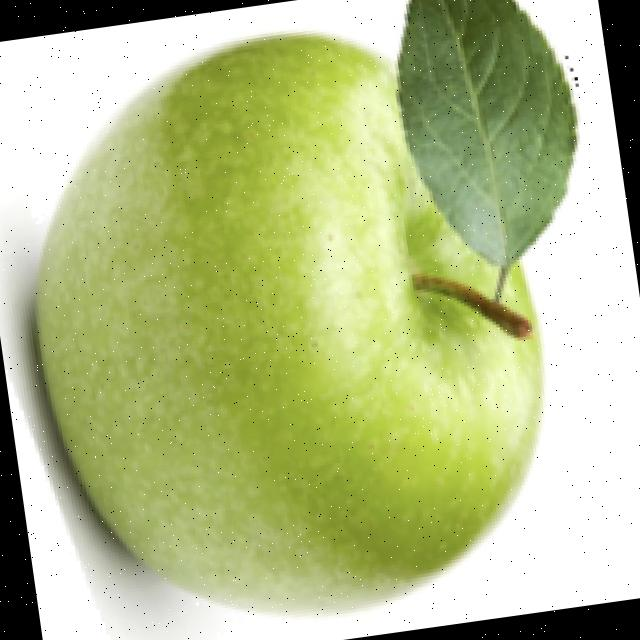apple: (0, 0, 583, 640)
